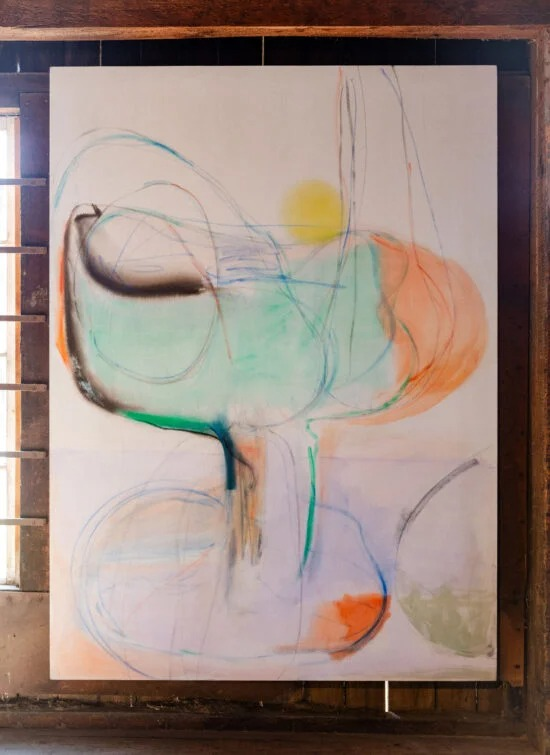painting: (48, 65, 499, 682)
